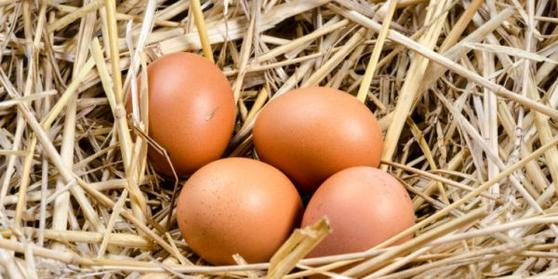egg: (173, 157, 302, 262), (245, 88, 387, 179), (135, 50, 231, 169)
